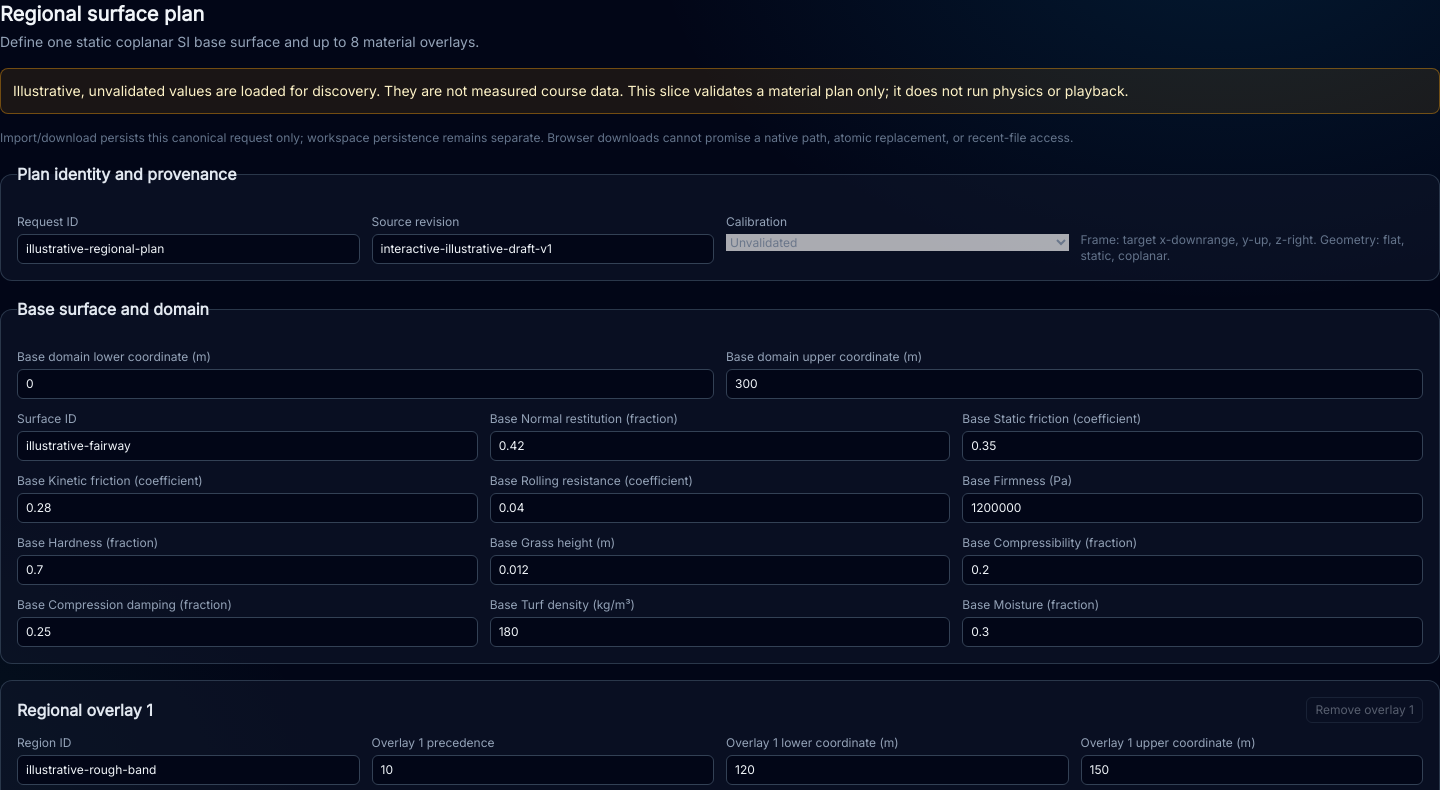
Test: RegionalSurfacePlanPanel › links invalid interval fields to an accessible error without clearing input
The width and height of the screenshot is (1440, 790).
Replace the text in the number field labelled "Overlay 1 lower coordinate (m)" with "160": (897, 770) [726, 755, 1068, 785]
(page scrolled)
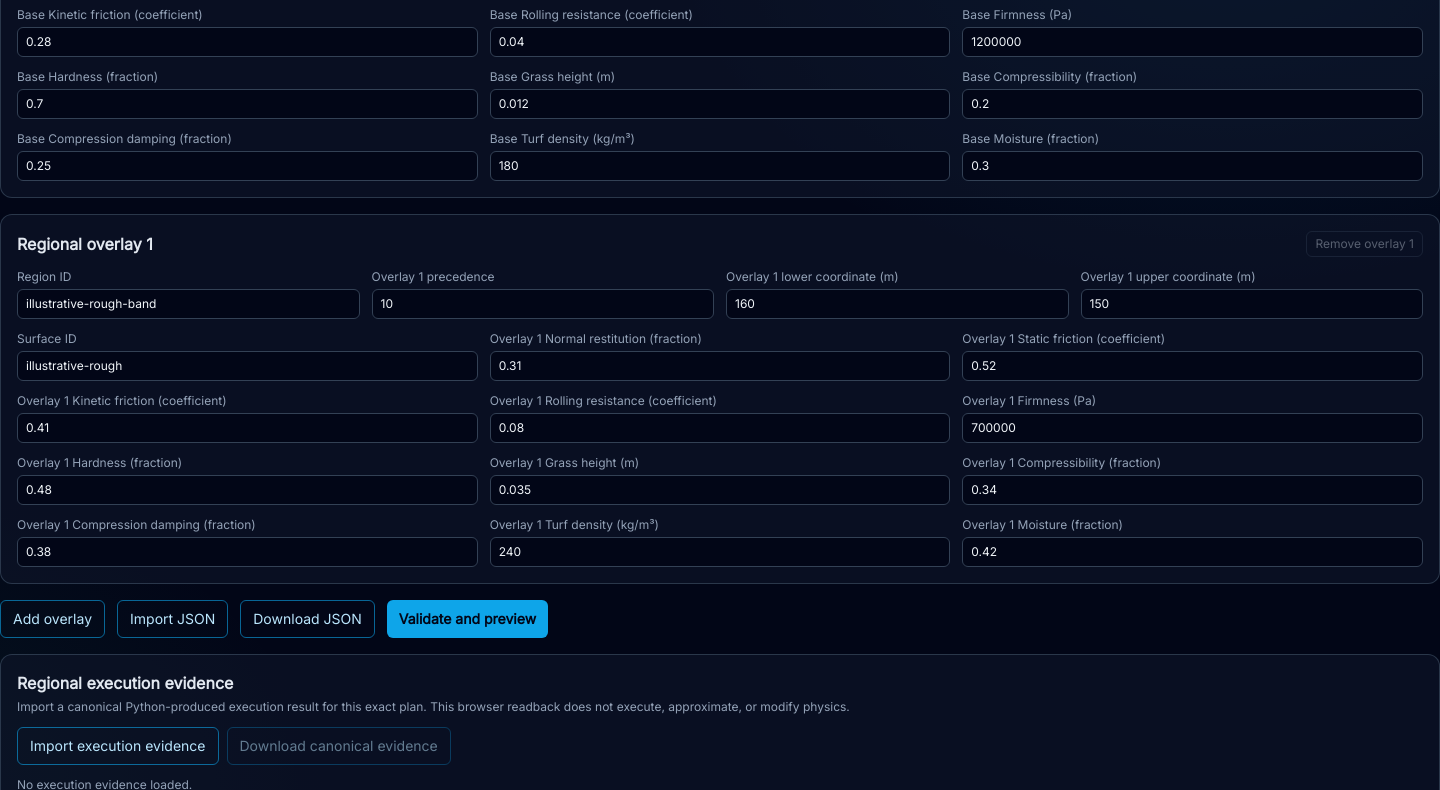
Click the button with aria-label "Validate surface plan": (467, 619) [387, 600, 548, 638]
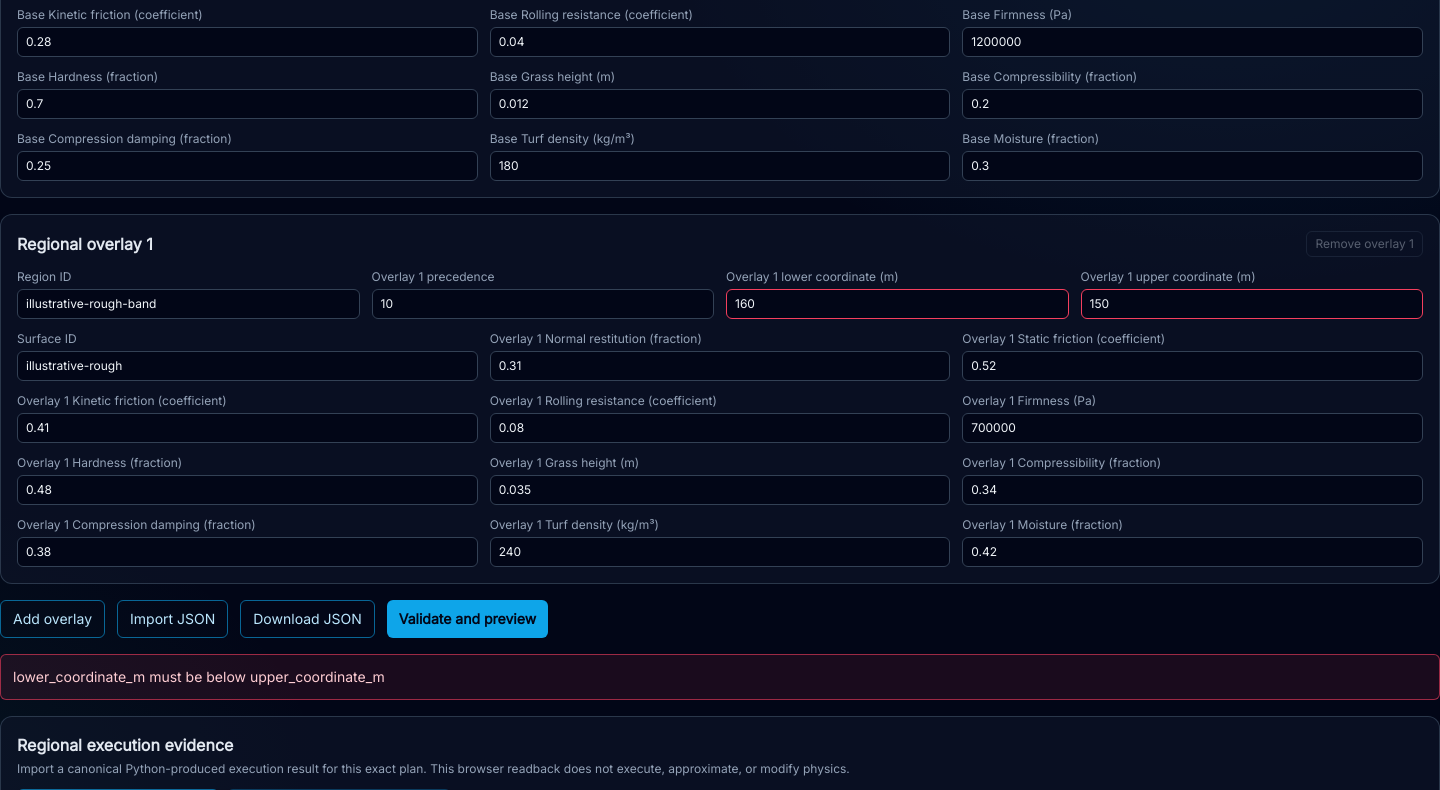
Expected: the message shows "lower_coordinate_m", [13, 668, 385, 685]
